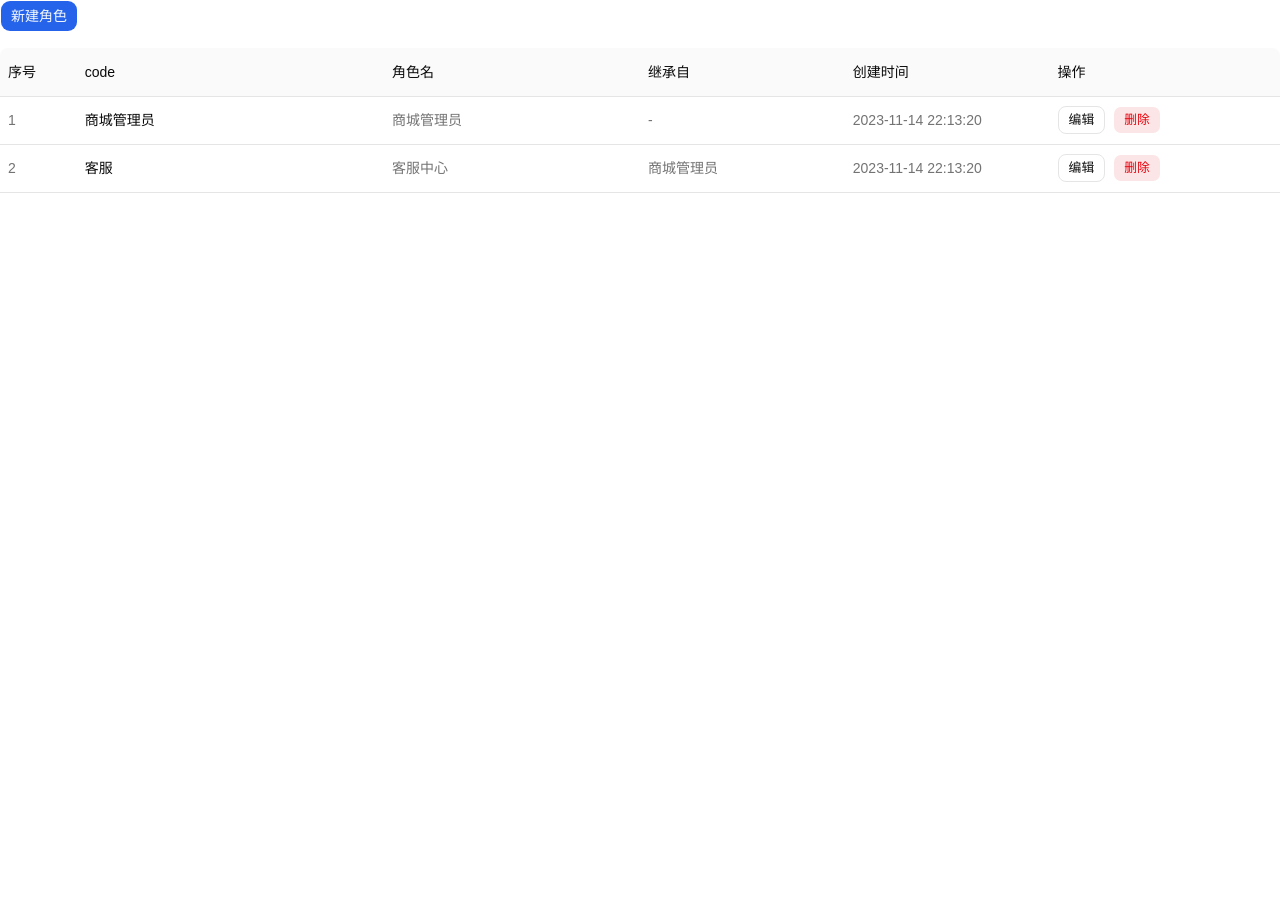
Test: 删除确认框写明会从用户身上摘掉、解除授权、清空默认角色设置
Expected: the text "商城管理员" is shown, [85, 112, 155, 128]
Click the 1st button "删除" at (1137, 120), box [1113, 106, 1161, 134]
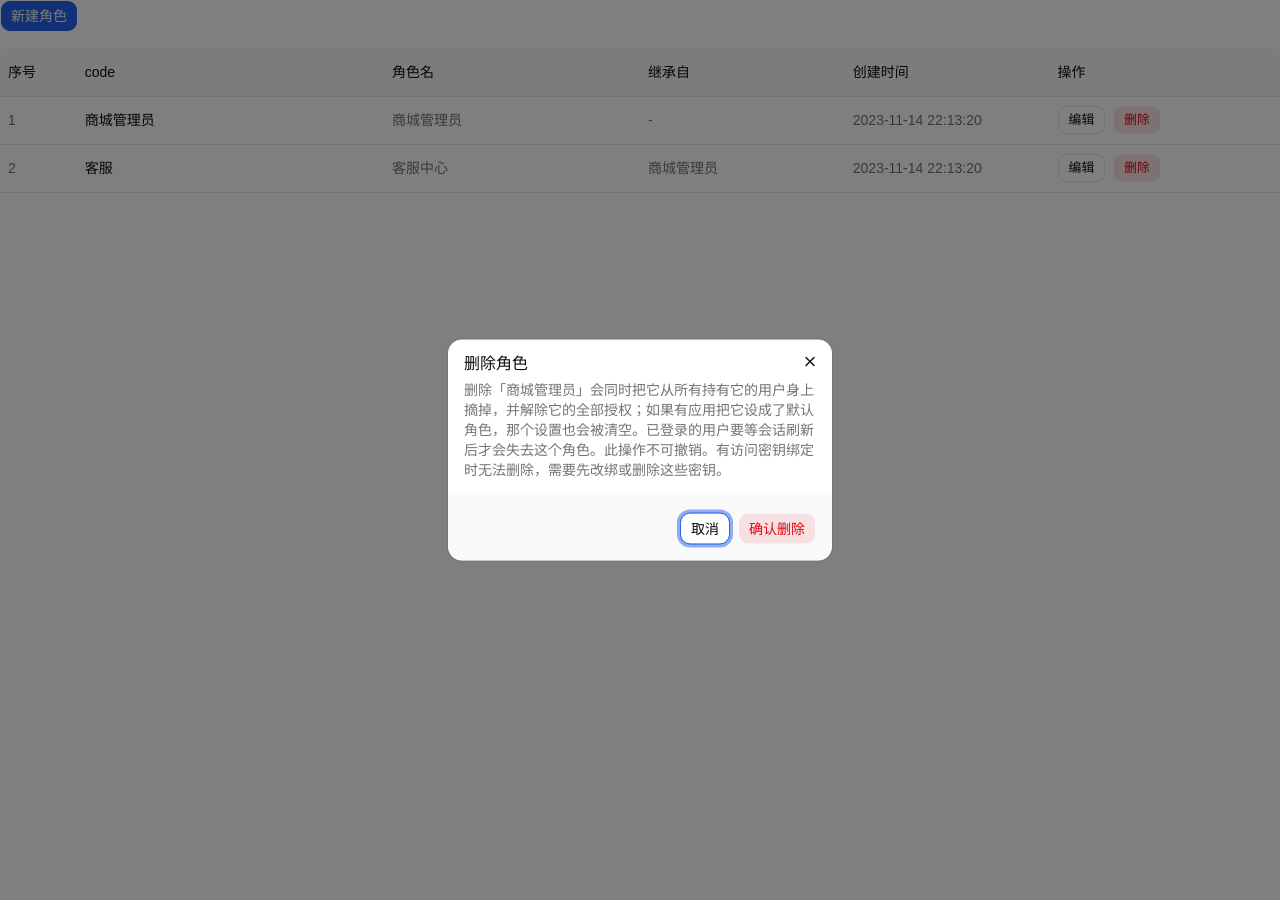
Now the text "从所有持有它的用户身上摘掉" shows "解除它的全部授权", box [464, 382, 814, 478]
Now the text "从所有持有它的用户身上摘掉" shows "默认角色", box [464, 382, 814, 478]
Now the text "从所有持有它的用户身上摘掉" shows "不可撤销", box [464, 382, 814, 478]
